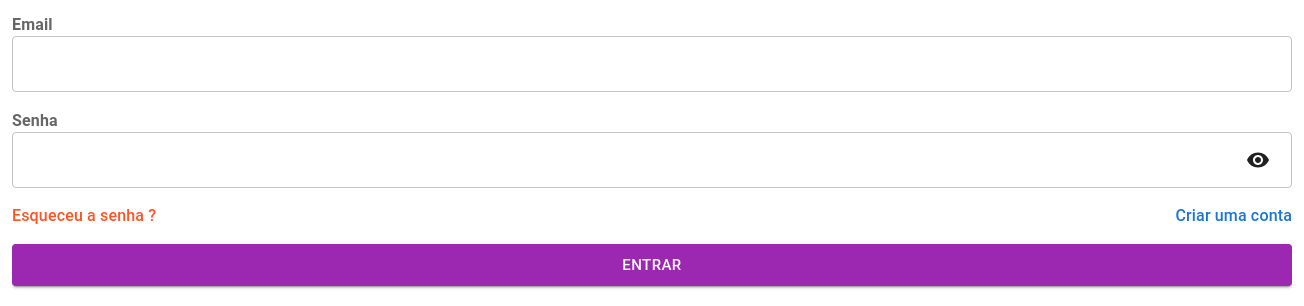
it: LoginForm › behavior › deve renderizar um svg quando o botão for clicado e os inputs validos
Click the button "Entrar" at [652, 265], box x1=12 y1=244 x2=1292 y2=286
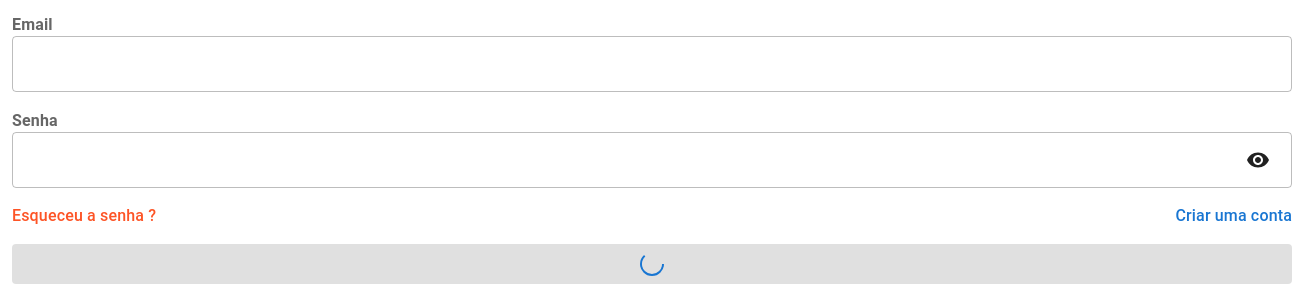
Now the progress indicator with test id "loading" is shown, box x1=640 y1=252 x2=664 y2=276
